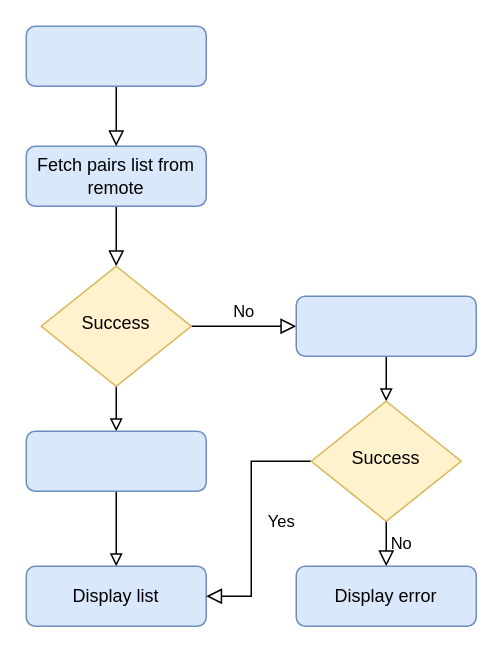
Image size: 503x653. Some labels were removed from this diagram. Each missing label, with the centre of its shape:
Cache list: the point at 115,460
Load pairs list from cache: the point at 385,325
Show home screen: the point at 115,55
